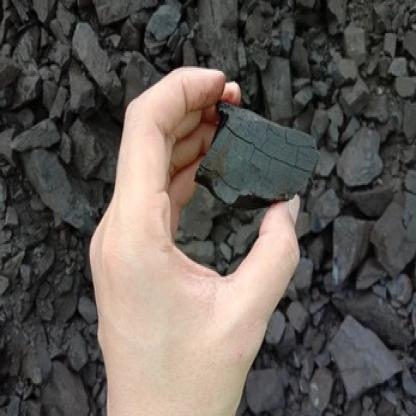Sedimentary_coal: (201, 96, 315, 213), (16, 128, 97, 242), (322, 310, 400, 406), (70, 15, 127, 109), (335, 114, 384, 193), (363, 203, 415, 272), (233, 362, 285, 408), (141, 2, 186, 52)
